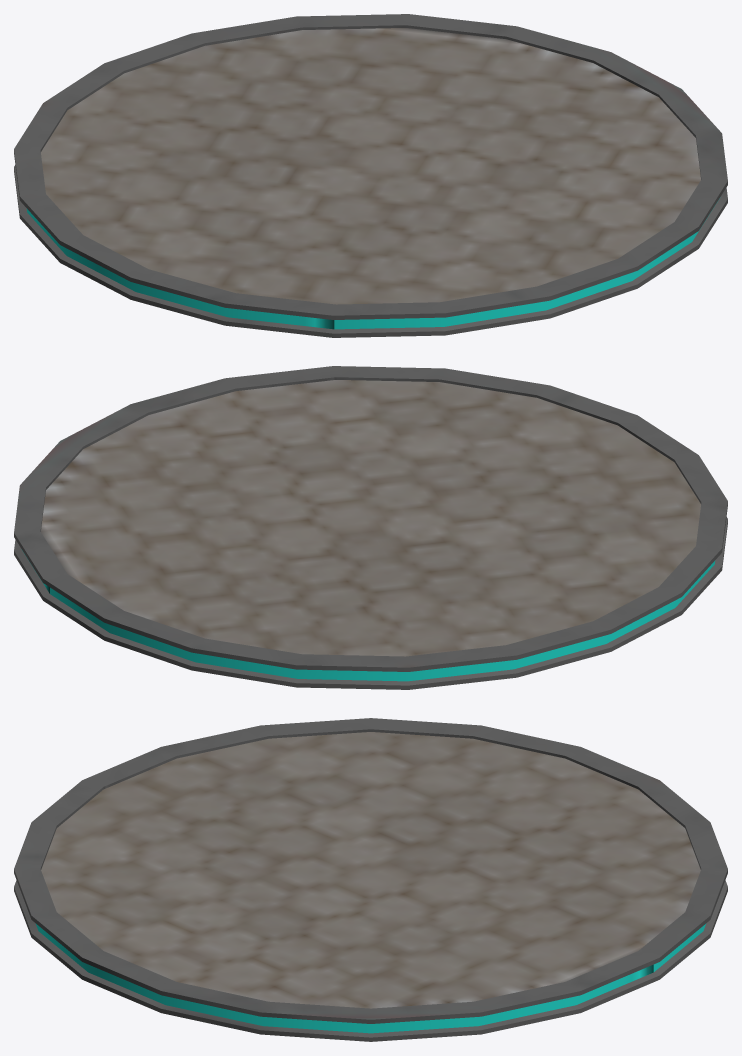
The model's file is elevatorpad.fbx.
3 views of the same model, one above another, from view 1: azimuth 30°, elevation 25°; view 2: azimuth 150°, elevation 25°; view 3: azimuth 270°, elevation 25° (orthographic).
Visible parts, largest first — view 1: pCylinder1_defaultPolygonShader1_0_0_1; view 2: pCylinder1_defaultPolygonShader1_0_0_1; view 3: pCylinder1_defaultPolygonShader1_0_0_1.
Part boxes in pixels (x1,y1,x2,y2): pCylinder1_defaultPolygonShader1_0_0_1: [14, 14, 727, 337]; pCylinder1_defaultPolygonShader1_0_0_1: [14, 366, 727, 689]; pCylinder1_defaultPolygonShader1_0_0_1: [14, 718, 727, 1041].
Size of the model in its own units: 204 by 6.97 by 204.
Materials: 1 (1 with a texture image).
